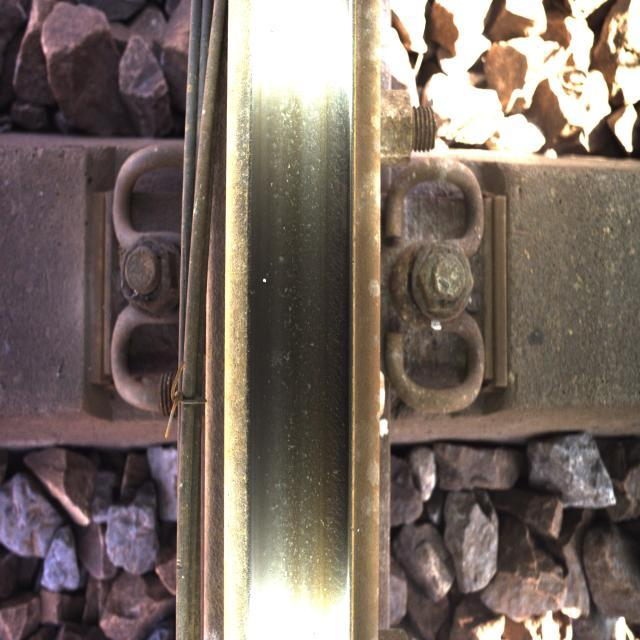normal: (241, 19, 340, 606)
